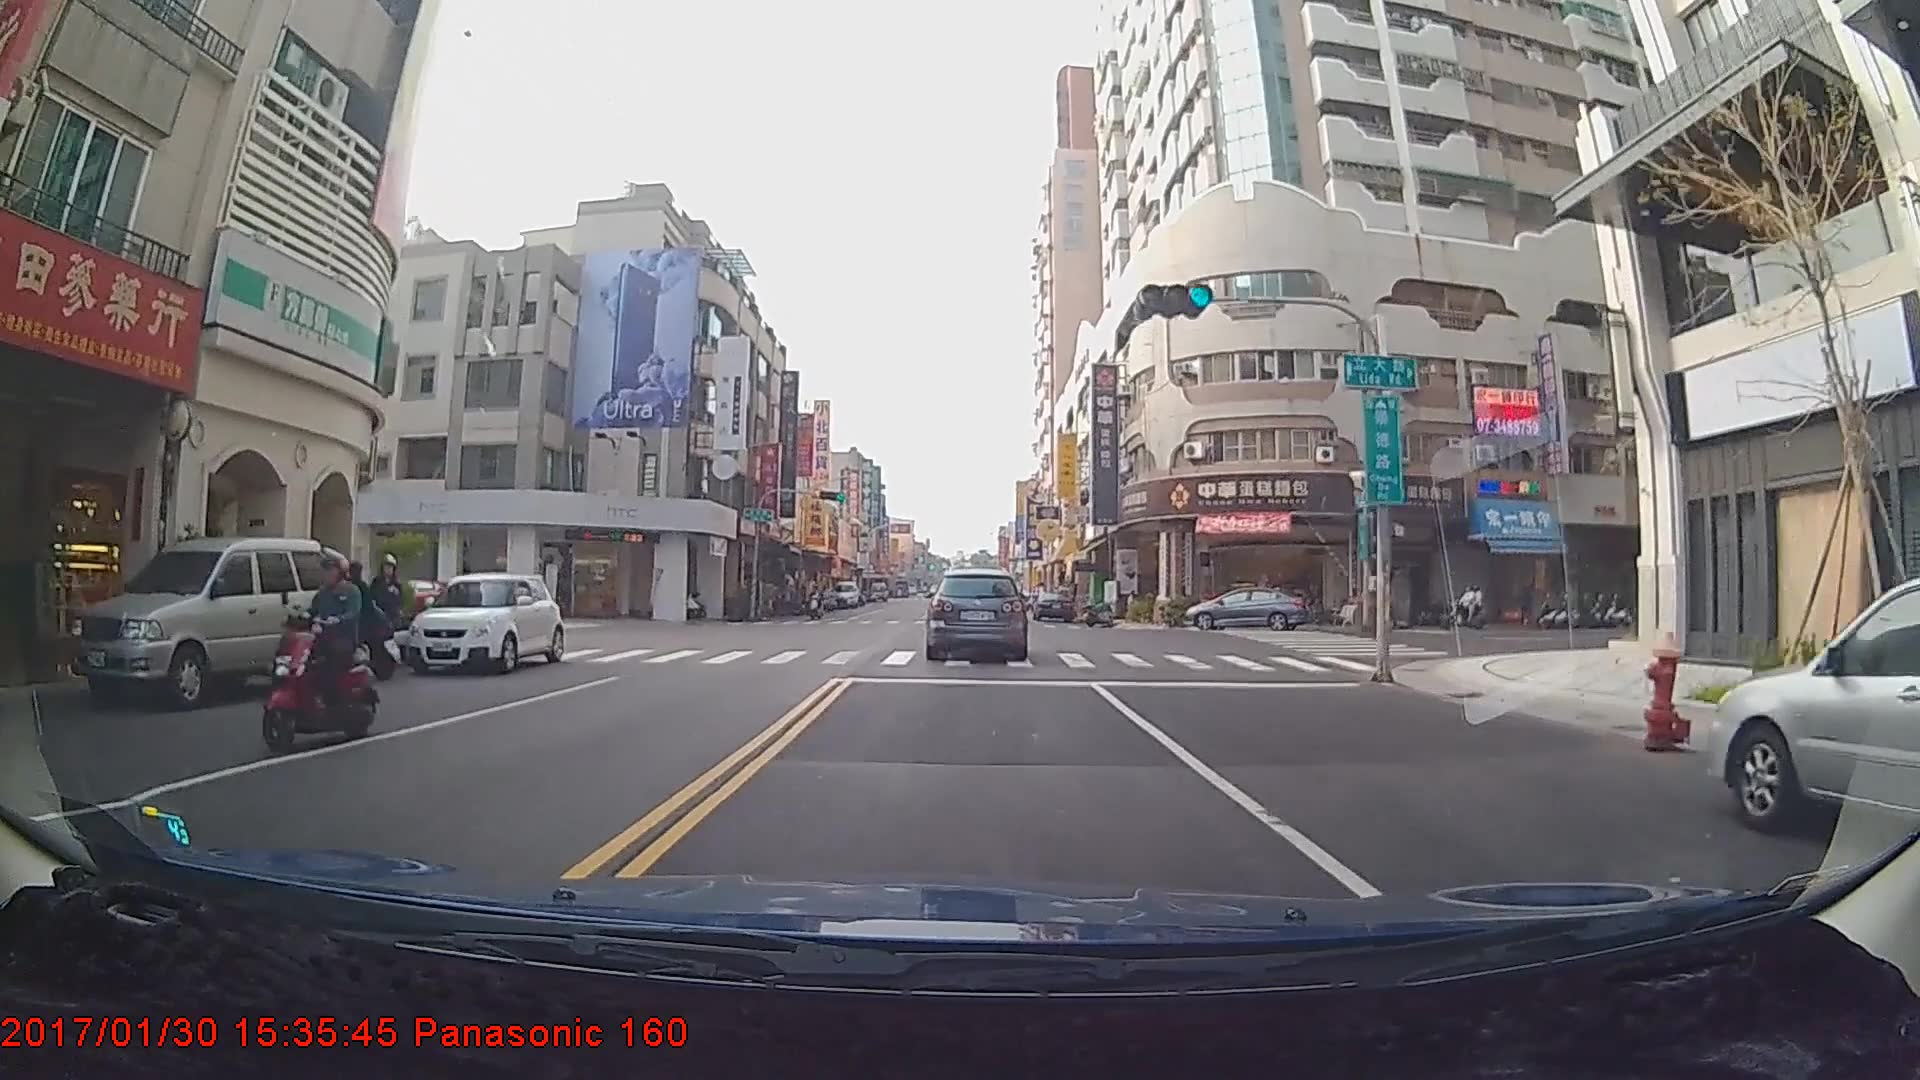pedestrian: (360, 544, 411, 667)
rider: (255, 554, 381, 759), (1432, 583, 1484, 632), (802, 589, 831, 628)
vehicle: (1708, 574, 1916, 838), (67, 534, 345, 714), (406, 573, 564, 676), (923, 569, 1027, 662), (1183, 582, 1312, 633), (1035, 589, 1075, 621), (832, 580, 860, 609)
